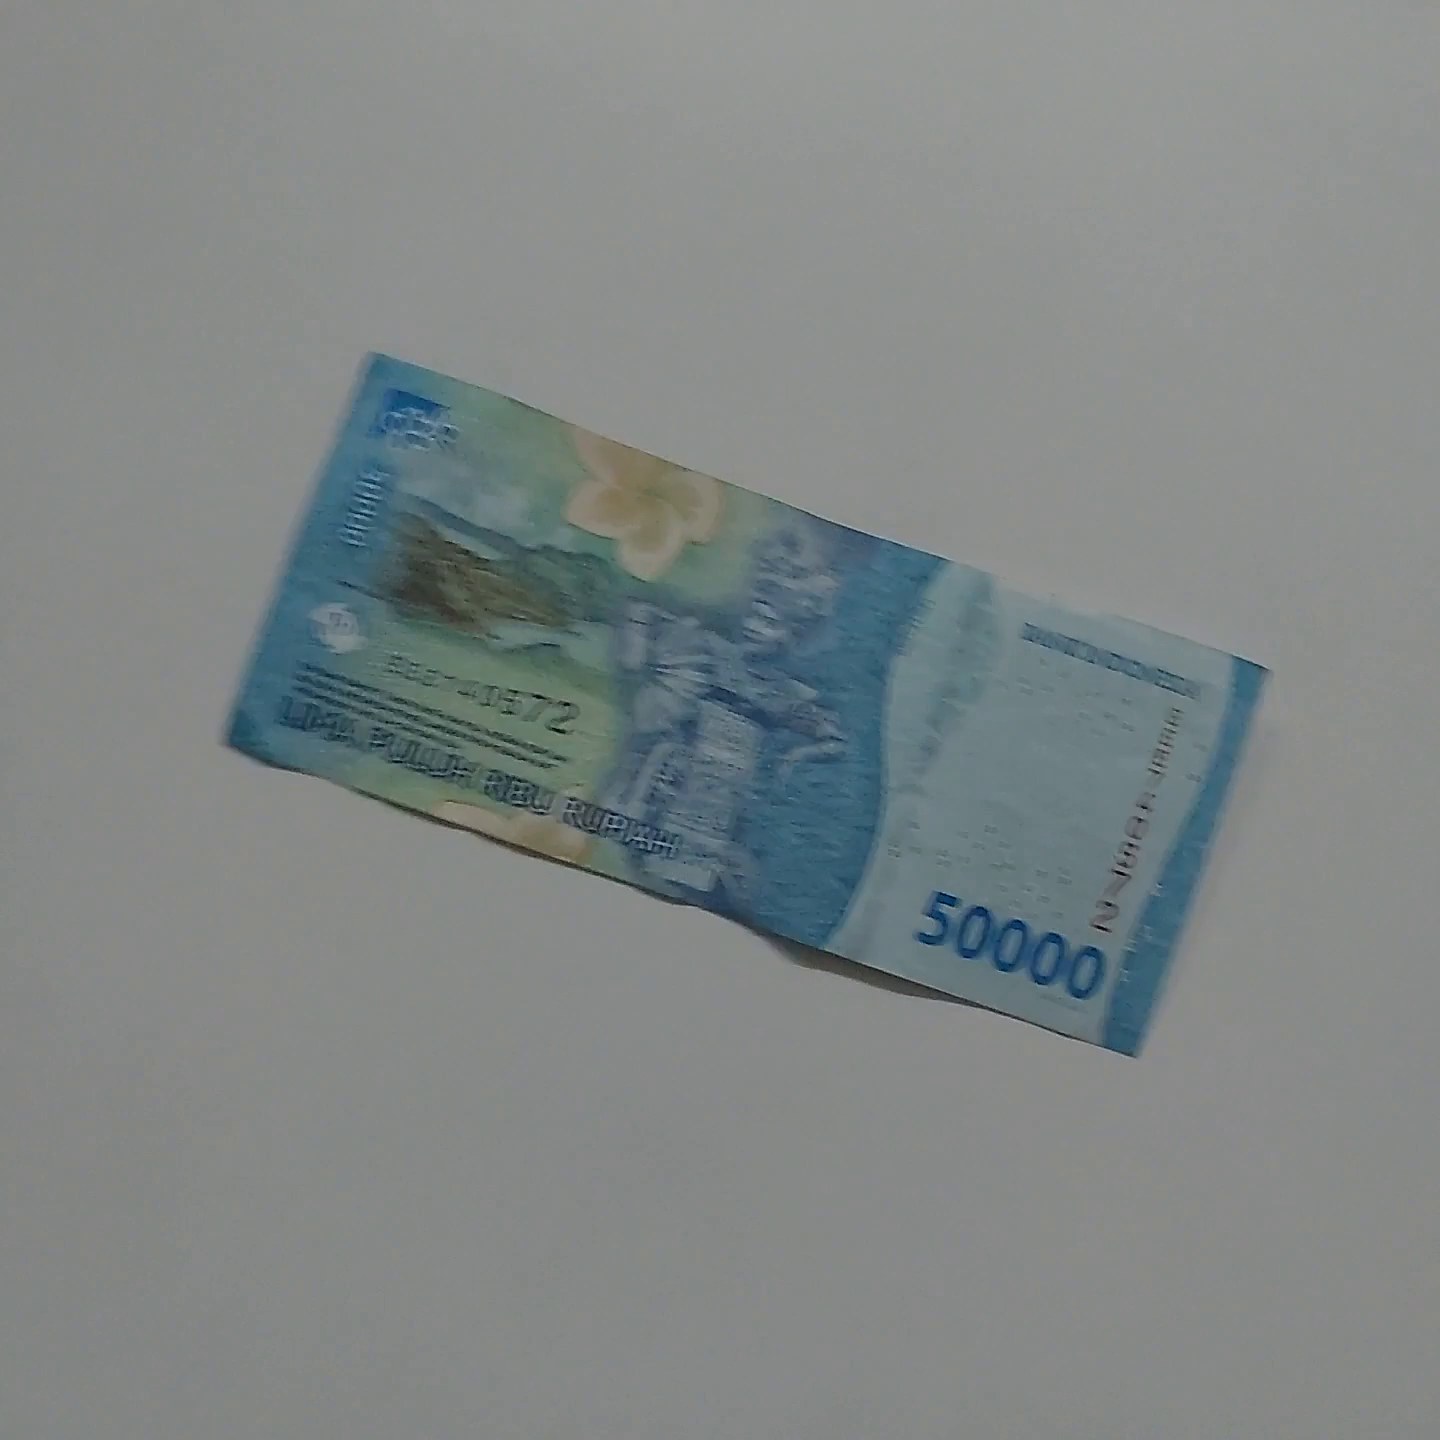50k: (343, 295, 1422, 795)
